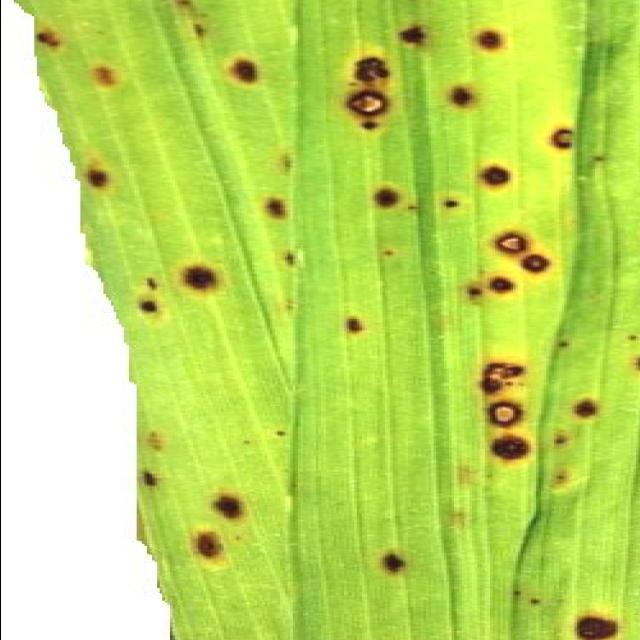Brown_Spot: (343, 30, 433, 128), (215, 48, 307, 106), (338, 171, 443, 215), (74, 147, 133, 214), (128, 420, 184, 490), (64, 54, 154, 96), (182, 525, 266, 569), (535, 118, 622, 160), (456, 160, 546, 198), (453, 356, 543, 391), (474, 431, 550, 471), (446, 267, 522, 307), (212, 492, 292, 526), (553, 610, 640, 640), (246, 195, 326, 227), (458, 228, 546, 256), (328, 302, 379, 349), (31, 28, 100, 61), (441, 76, 496, 116), (482, 398, 548, 431), (361, 548, 438, 576), (463, 25, 532, 53), (548, 393, 610, 424), (179, 258, 225, 298), (520, 254, 574, 278), (112, 294, 164, 316), (604, 352, 640, 374)
